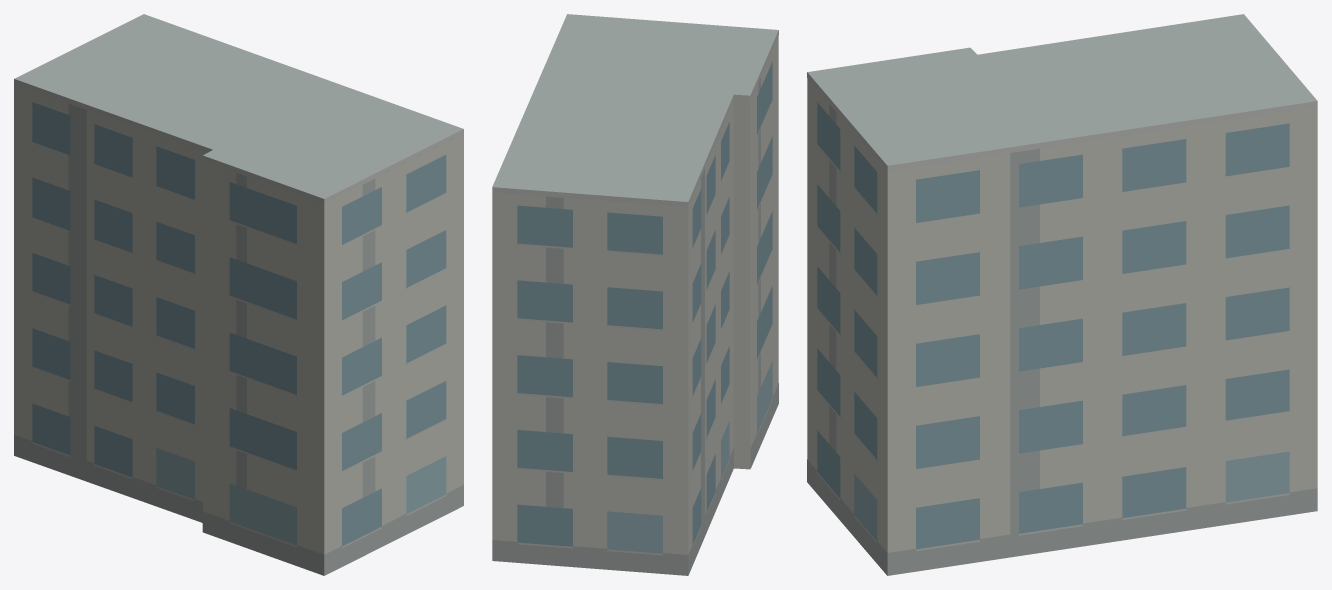
File: survey-upis-32874086.glb
The picture shows the model from 3 angles, left to right: view 1: azimuth 30°, elevation 25°; view 2: azimuth 150°, elevation 25°; view 3: azimuth 270°, elevation 25°; orthographic projection. The views are drawn at different scales.
Parts seen in each view (by area): view 1: survey-upis-32874086.tmp; view 2: survey-upis-32874086.tmp; view 3: survey-upis-32874086.tmp.
Boxes of the visible parts, bbox=[...] form: survey-upis-32874086.tmp: bbox=[14, 14, 463, 575]; survey-upis-32874086.tmp: bbox=[492, 14, 778, 575]; survey-upis-32874086.tmp: bbox=[807, 14, 1317, 575].
Bounding box in the file's own units: 13.75 × 17.3 × 19.53.
